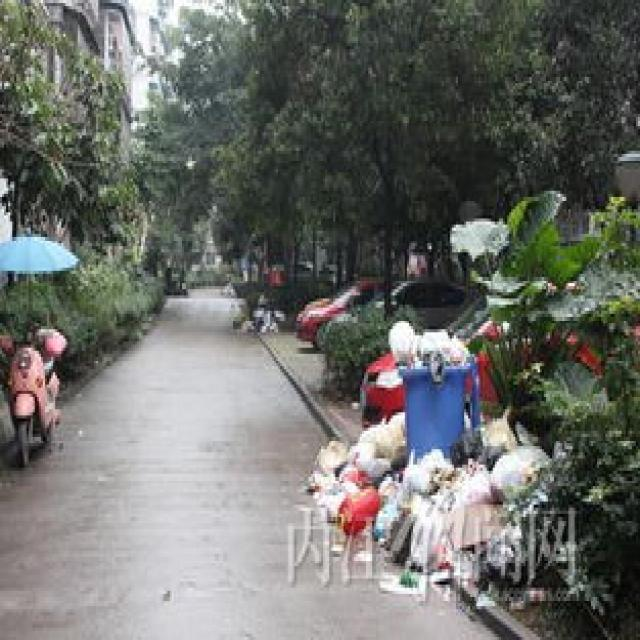garbage: (305, 406, 550, 606)
overflow: (384, 314, 478, 458)
